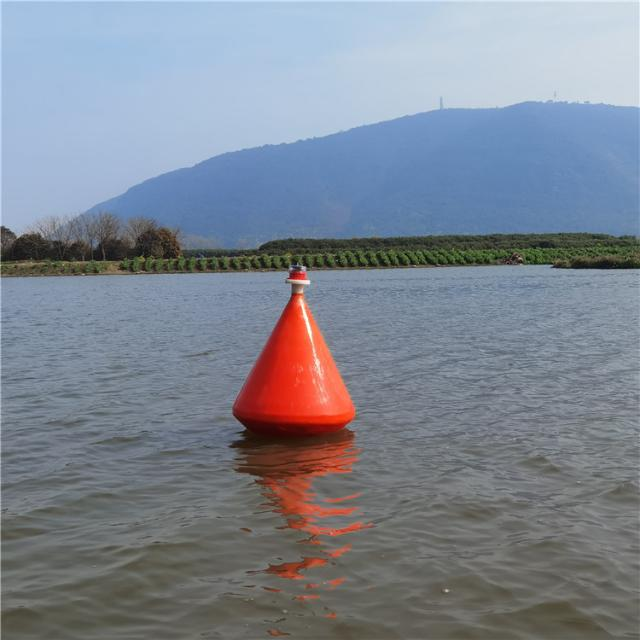buoy: (231, 264, 357, 436)
